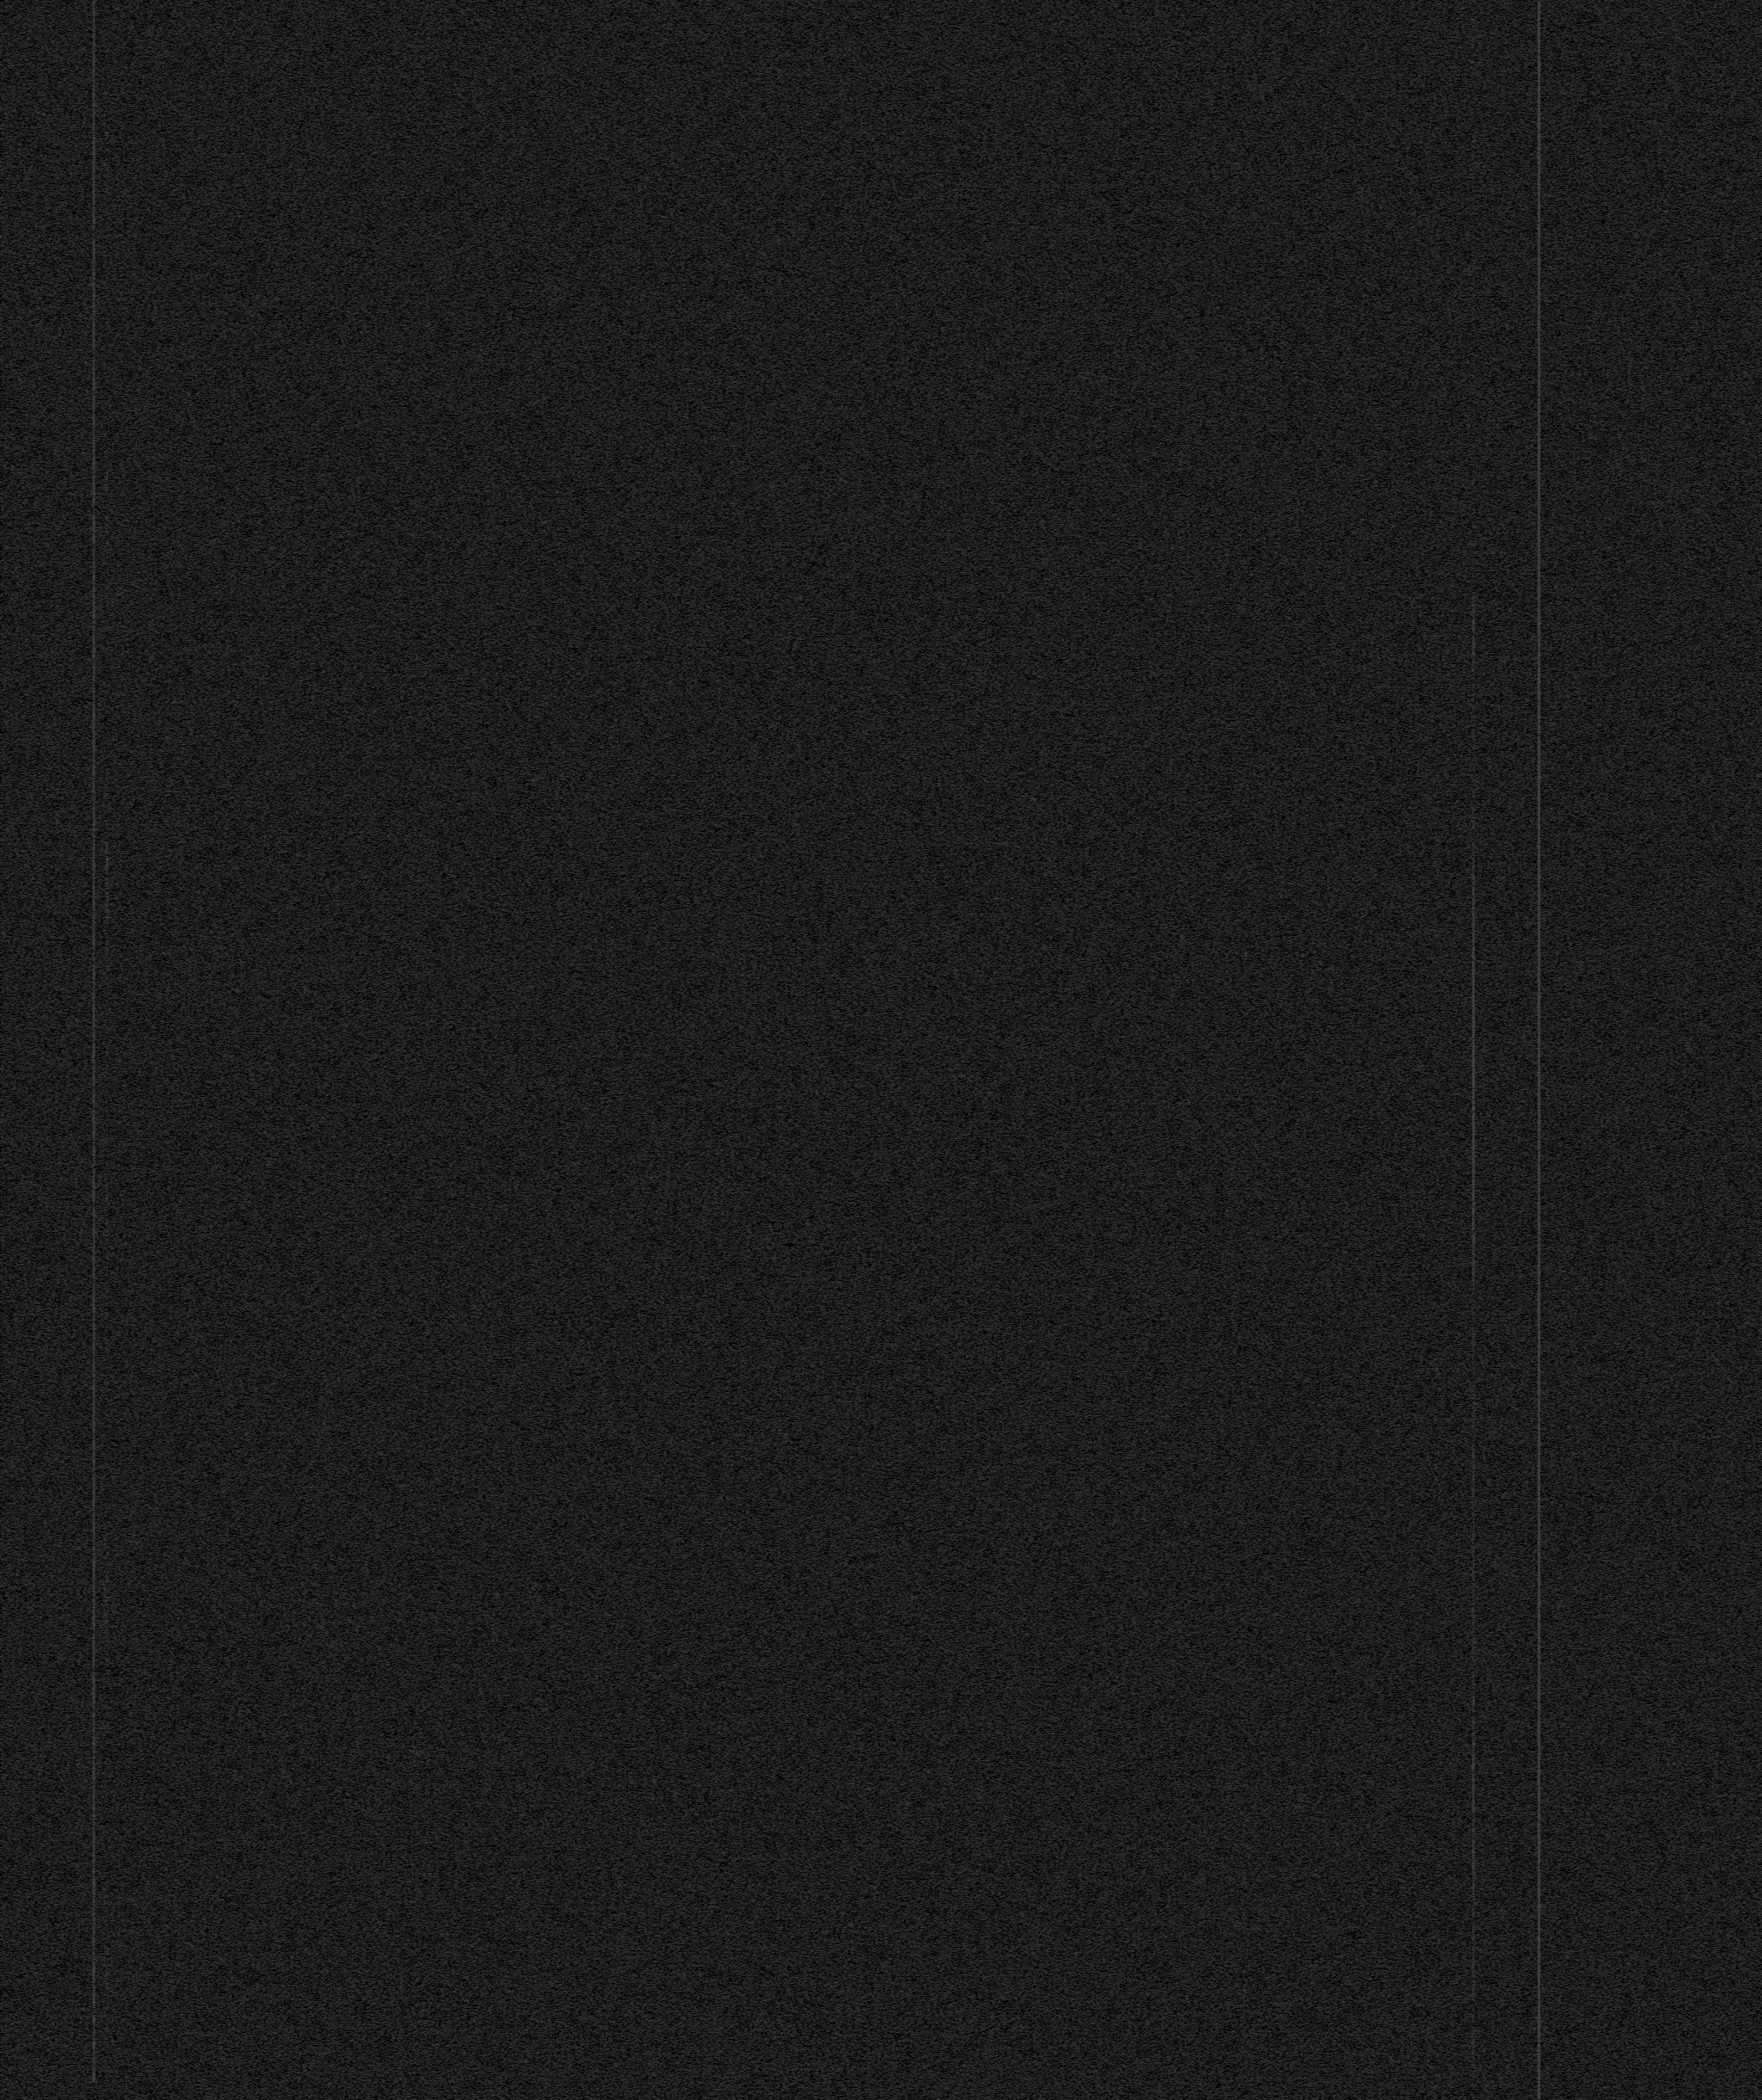wv_am: (91, 0, 96, 2081)
wv_cw: (1533, 0, 1545, 2100)
wv_lsb: (105, 818, 110, 975), (105, 1205, 110, 1286), (105, 468, 110, 522), (105, 1536, 110, 1583), (105, 1586, 110, 1630), (105, 126, 110, 162), (105, 1288, 110, 1321), (105, 1938, 110, 1967), (105, 1181, 110, 1205), (105, 568, 110, 592), (105, 1029, 108, 1059), (105, 536, 110, 554), (105, 1632, 110, 1648), (105, 999, 108, 1020), (105, 1326, 108, 1345), (105, 1144, 108, 1164), (105, 1665, 110, 1677), (105, 522, 110, 535), (105, 1969, 110, 1979), (105, 1164, 108, 1179), (105, 1060, 108, 1076), (105, 1345, 108, 1359), (105, 2002, 110, 2011), (105, 1981, 110, 1990), (105, 1123, 108, 1136), (105, 1108, 108, 1120), (105, 975, 108, 987), (107, 2013, 110, 2023), (105, 989, 108, 999), (105, 1516, 108, 1525), (107, 1419, 108, 1436), (105, 556, 108, 564), (105, 1658, 110, 1663), (105, 1649, 108, 1656), (105, 1394, 108, 1401), (105, 1136, 108, 1143), (105, 1083, 108, 1090), (105, 604, 108, 611), (107, 2067, 108, 2079), (107, 173, 108, 183), (105, 166, 108, 171), (107, 2035, 108, 2046), (105, 1403, 108, 1408), (105, 1378, 108, 1384), (105, 1371, 108, 1377), (105, 1099, 108, 1104), (105, 1022, 108, 1027), (107, 611, 108, 622), (107, 199, 108, 208), (107, 1716, 108, 1724), (107, 1447, 108, 1455), (107, 1992, 108, 2000), (107, 185, 108, 192), (107, 1677, 108, 1684), (107, 2046, 108, 2053), (107, 1527, 108, 1534), (105, 1389, 108, 1392), (105, 1364, 108, 1368), (105, 1323, 108, 1326), (105, 1092, 108, 1095), (105, 1076, 108, 1080), (107, 659, 108, 666), (107, 650, 108, 657), (107, 625, 108, 632), (105, 599, 108, 603), (107, 234, 108, 241), (107, 215, 108, 222), (107, 2095, 108, 2100), (107, 1901, 108, 1906), (107, 1894, 108, 1899), (107, 1698, 108, 1703), (107, 1686, 108, 1691), (107, 1473, 108, 1478), (107, 1441, 108, 1447), (107, 2027, 108, 2032), (107, 722, 108, 727), (107, 255, 108, 260), (107, 227, 108, 232), (107, 59, 108, 63), (107, 35, 108, 38), (107, 23, 108, 26), (107, 1918, 108, 1922), (107, 1703, 108, 1707), (107, 2062, 108, 2065), (107, 1693, 108, 1696), (107, 1509, 108, 1513), (107, 1489, 108, 1492), (107, 1480, 108, 1483), (107, 1436, 108, 1440), (107, 1413, 108, 1417), (107, 1408, 108, 1412), (107, 690, 108, 694), (107, 687, 108, 690), (107, 622, 108, 625), (107, 594, 108, 598), (107, 367, 108, 370), (107, 287, 108, 290), (107, 274, 108, 278), (107, 56, 108, 58), (107, 1934, 108, 1936), (107, 1931, 108, 1932), (107, 1873, 108, 1875), (107, 1466, 108, 1468), (107, 1457, 108, 1459), (107, 1361, 108, 1363), (107, 683, 108, 685), (107, 643, 108, 645), (107, 267, 108, 269), (107, 210, 108, 211)
wv_usb: (1472, 784, 1475, 1695), (1472, 1695, 1477, 2100), (1472, 582, 1475, 723), (103, 1929, 107, 1990), (1472, 729, 1475, 772), (1472, 117, 1475, 150), (103, 1880, 107, 1911), (103, 162, 107, 194), (103, 1529, 107, 1553), (1472, 407, 1475, 430), (1472, 437, 1475, 458), (1472, 229, 1475, 250), (103, 1565, 107, 1586), (103, 535, 107, 556), (103, 196, 107, 217), (103, 1600, 107, 1620), (1472, 547, 1475, 563), (1472, 370, 1475, 386), (1472, 278, 1475, 294), (1472, 45, 1475, 61), (103, 1913, 107, 1929), (1472, 519, 1475, 533), (1472, 503, 1475, 517), (1472, 386, 1475, 400), (1472, 314, 1475, 328), (1472, 259, 1475, 273), (1472, 215, 1475, 229), (103, 2018, 107, 2032), (103, 1219, 107, 1233), (103, 816, 108, 825), (1472, 772, 1475, 784), (1472, 294, 1475, 306), (103, 2032, 107, 2044), (103, 1588, 107, 1600), (103, 861, 107, 874), (1472, 571, 1475, 582), (1472, 480, 1475, 491), (1472, 468, 1475, 479), (1472, 169, 1475, 180), (1472, 96, 1475, 107), (1472, 24, 1475, 35), (103, 2002, 107, 2013), (103, 1992, 107, 2002), (103, 570, 107, 580), (103, 218, 107, 229), (103, 145, 107, 155), (103, 121, 107, 131), (1472, 358, 1475, 367), (1472, 341, 1475, 349), (1472, 330, 1475, 339), (103, 1621, 107, 1630), (103, 1183, 107, 1192), (103, 624, 107, 632), (1472, 459, 1475, 466), (1472, 250, 1475, 257), (1472, 201, 1475, 208), (1472, 185, 1475, 192), (1472, 162, 1475, 169), (1472, 152, 1475, 159), (1472, 87, 1475, 94), (1472, 63, 1475, 70), (1472, 37, 1475, 44), (103, 1211, 107, 1218), (103, 1193, 107, 1200), (103, 561, 107, 568), (103, 250, 107, 257), (103, 236, 107, 243), (103, 136, 107, 143), (1472, 536, 1475, 542), (1472, 494, 1475, 500), (1472, 351, 1475, 356), (1472, 307, 1475, 313), (1472, 208, 1475, 213), (1472, 180, 1475, 185), (1472, 108, 1475, 114), (1472, 17, 1475, 23), (103, 1731, 107, 1737), (103, 1630, 107, 1635), (103, 1555, 107, 1560), (103, 1178, 107, 1183), (103, 935, 107, 940), (103, 928, 107, 933), (103, 888, 107, 893), (103, 847, 107, 853), (103, 294, 107, 299), (103, 264, 107, 269), (1472, 725, 1475, 729), (1472, 432, 1475, 435), (1472, 402, 1475, 405), (1472, 196, 1475, 199), (1472, 12, 1475, 16), (103, 2049, 107, 2053), (103, 2046, 107, 2049), (103, 2014, 107, 2018), (103, 1712, 107, 1716), (103, 1672, 107, 1675), (103, 1637, 107, 1641), (103, 1562, 107, 1565), (103, 1258, 107, 1261), (103, 1253, 107, 1256), (103, 1205, 107, 1209), (103, 1172, 107, 1176), (103, 919, 107, 922), (103, 905, 107, 908), (103, 842, 107, 846), (103, 833, 107, 837), (103, 604, 107, 608), (103, 243, 107, 246), (105, 1658, 107, 1661), (103, 1523, 107, 1525), (103, 314, 107, 316)
